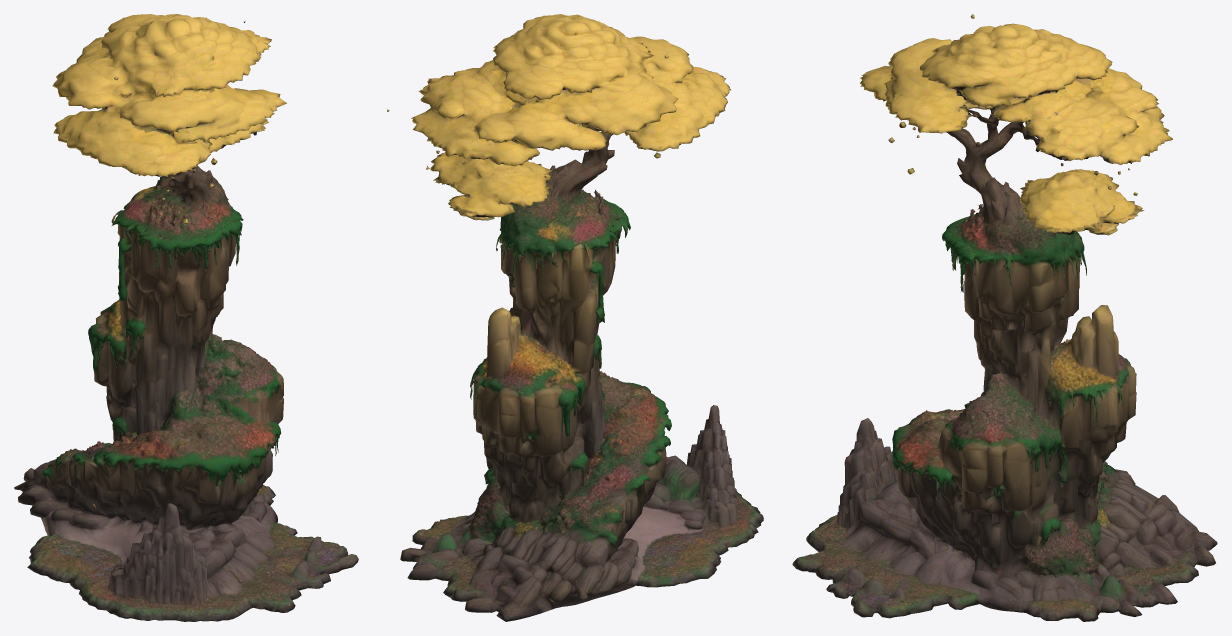
File: Golden_Tree_of_the_Sk.glb
3 views of the same model, side by side, from view 1: azimuth 30°, elevation 25°; view 2: azimuth 150°, elevation 25°; view 3: azimuth 270°, elevation 25° (orthographic). The views are drawn at different scales.
Visible parts, largest first — view 1: Golden_Tree_of_the_Sk; view 2: Golden_Tree_of_the_Sk; view 3: Golden_Tree_of_the_Sk.
Boxes of the visible parts, <box> form: Golden_Tree_of_the_Sk: <box>14,14,358,621</box>; Golden_Tree_of_the_Sk: <box>387,14,763,621</box>; Golden_Tree_of_the_Sk: <box>792,14,1217,621</box>.
Size of the model in its own units: 1.04 by 1.9 by 1.37.
Materials: 1 (1 with a texture image).
